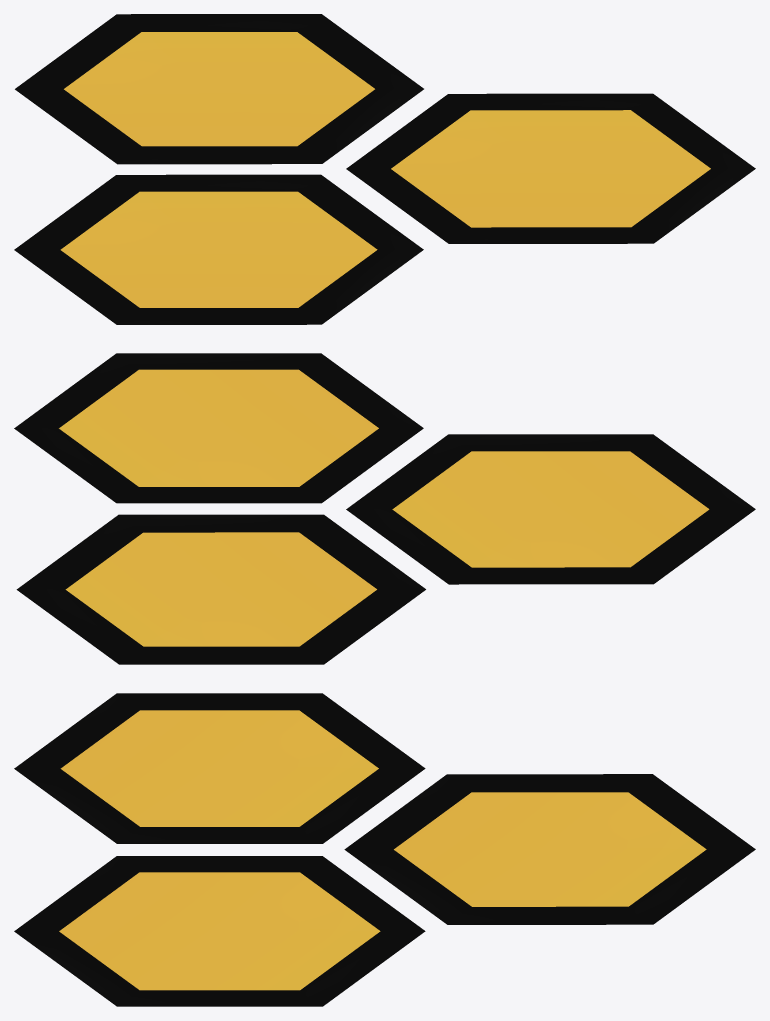
File: top_honey.fbx
3 views of the same model, one above another, from view 1: azimuth 30°, elevation 25°; view 2: azimuth 150°, elevation 25°; view 3: azimuth 270°, elevation 25° (orthographic).
Visible parts, largest first — view 1: top_honey; view 2: top_honey; view 3: top_honey.
Part boxes in pixels (x1,y1,x2,y2): top_honey: (14,14,755,324); top_honey: (14,353,755,664); top_honey: (14,693,755,1006).
Bounding box in the file's own units: 4.03 × 0 × 4.03.
